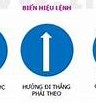Go_straight: (19, 23, 75, 78)
